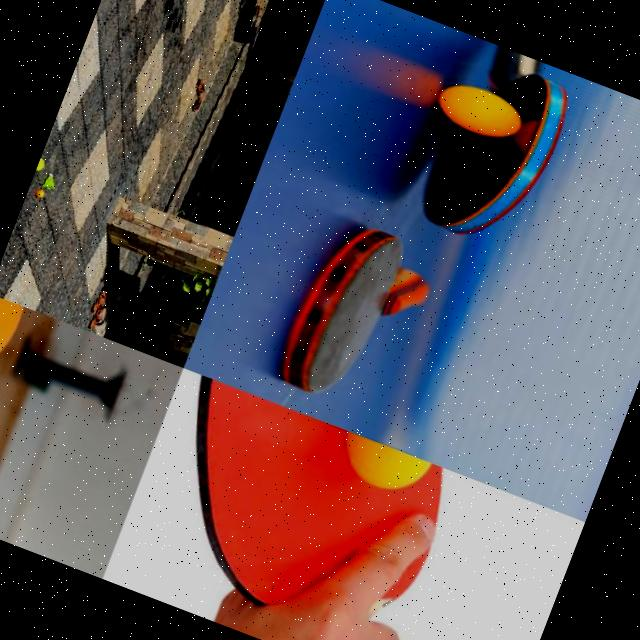ping-pong-ball: (332, 432, 430, 502), (430, 77, 526, 147), (0, 294, 23, 413), (34, 190, 44, 200)
